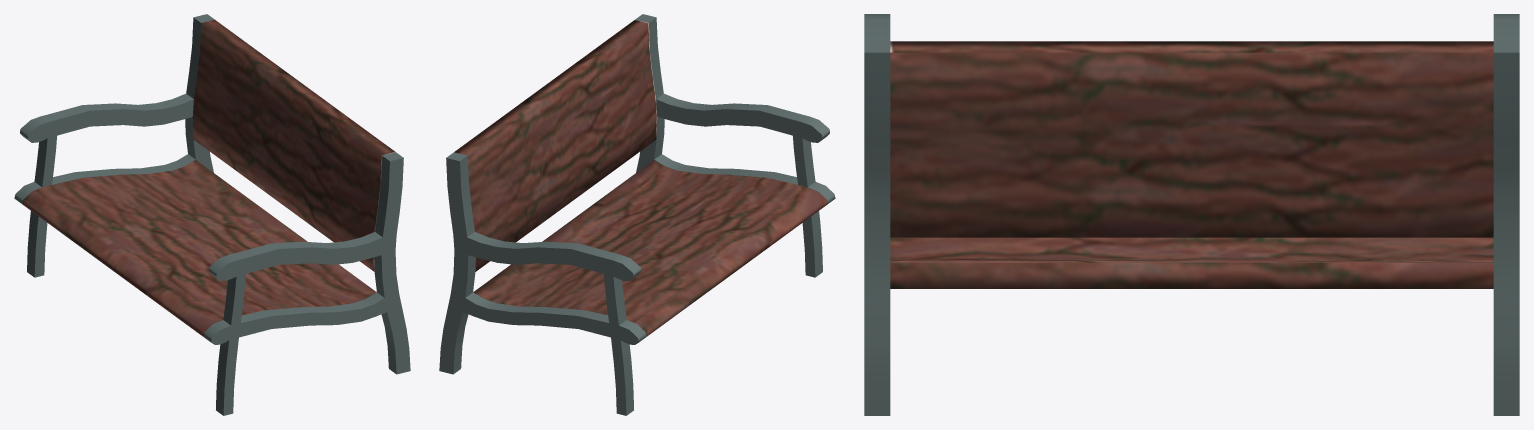
The model's file is Bench.fbx.
3 views of the same model, side by side, from view 1: azimuth 30°, elevation 25°; view 2: azimuth 150°, elevation 25°; view 3: azimuth 270°, elevation 25° (orthographic). The views are drawn at different scales.
Parts seen in each view (by area): view 1: Bench; view 2: Bench; view 3: Bench.
Boxes of the visible parts, box(x1,y1,x2,y2) form: Bench: box(14, 14, 410, 415); Bench: box(439, 14, 835, 415); Bench: box(864, 14, 1519, 415).
Bounding box in the file's own units: 3.36 × 3.46 × 5.74.
Materials: 1 (1 with a texture image).
